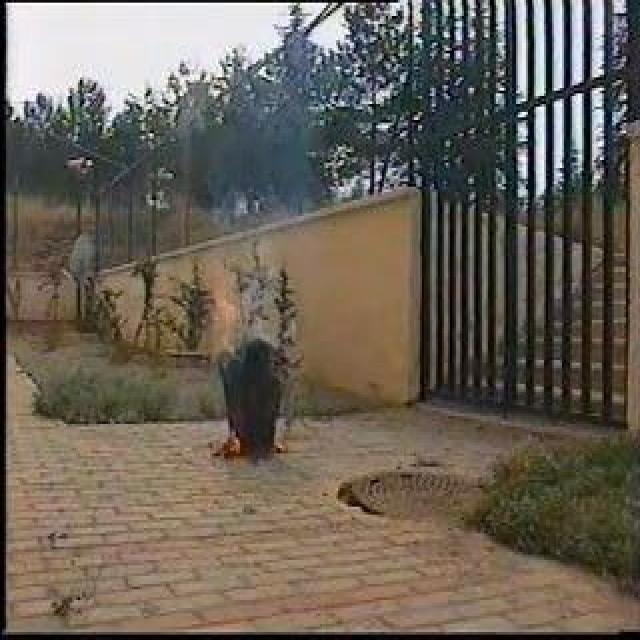fire: (214, 283, 238, 325)
smoke: (242, 186, 300, 346)
